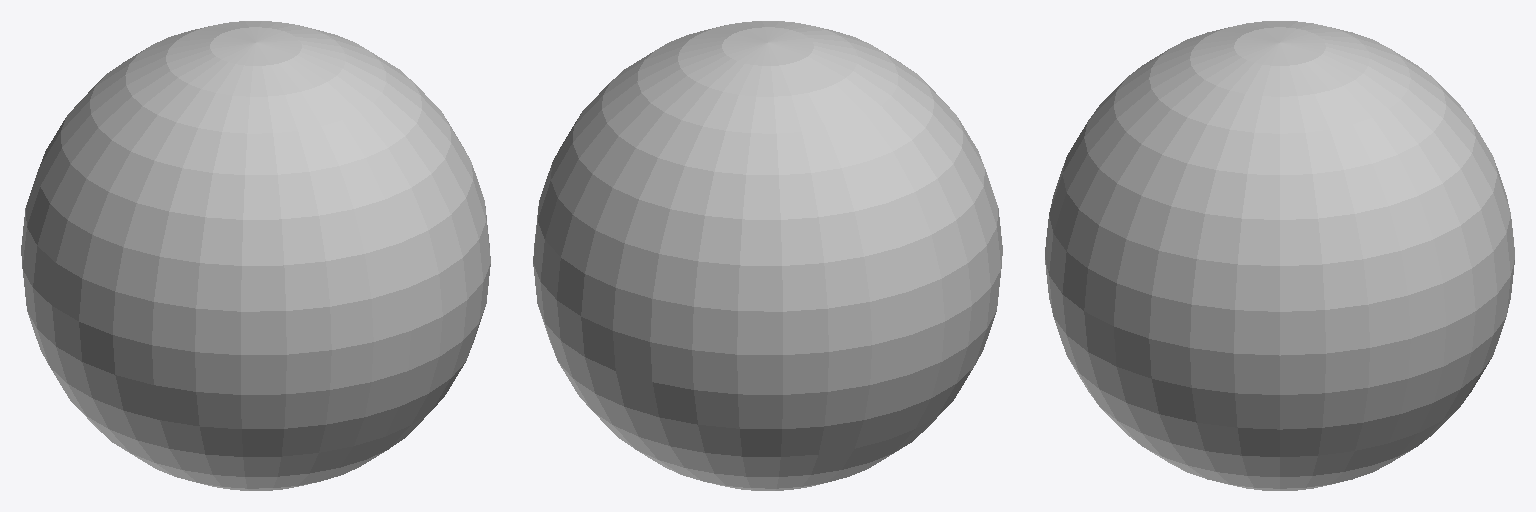
Rendered from gizmo_sphere.obj.
The picture shows the model from 3 angles: view 1: azimuth 30°, elevation 25°; view 2: azimuth 150°, elevation 25°; view 3: azimuth 270°, elevation 25°; orthographic projection.
Parts seen in each view (by area): view 1: Sphere; view 2: Sphere; view 3: Sphere.
Part boxes in pixels (x1,y1,x2,y2): Sphere: (21,21,490,490); Sphere: (533,21,1002,490); Sphere: (1045,21,1514,490).
Size of the model in its own units: 4 by 4 by 4.